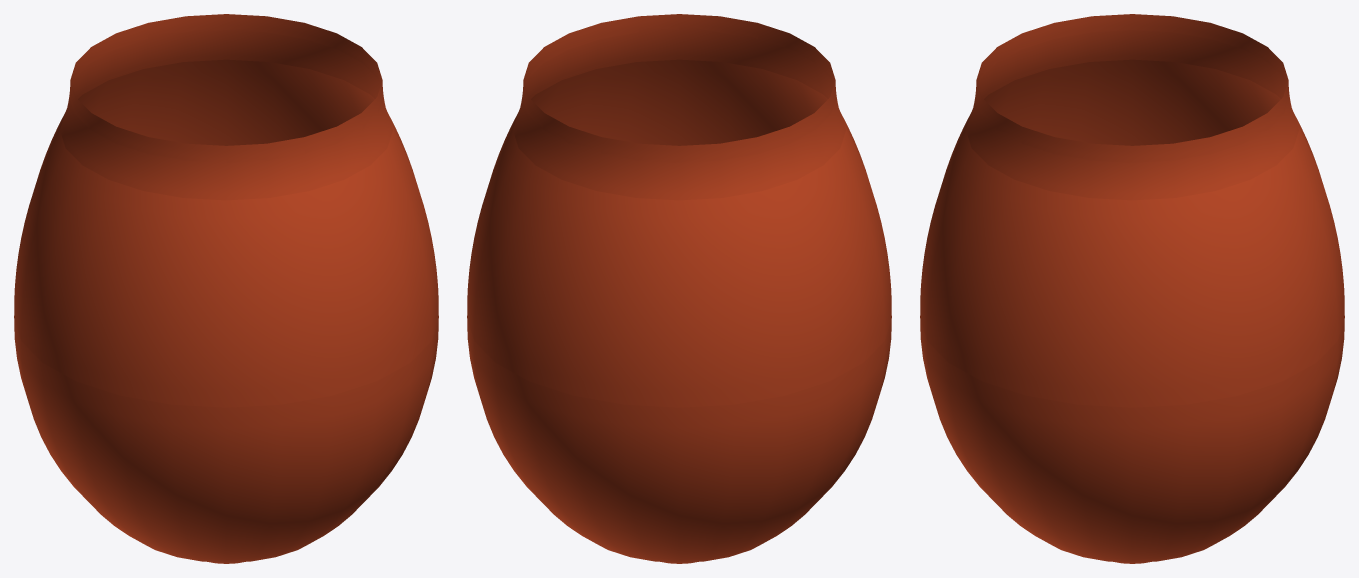
The model's file is beer_content2.dae.
3 renders of one model, left to right at view 1: azimuth 30°, elevation 25°; view 2: azimuth 150°, elevation 25°; view 3: azimuth 270°, elevation 25°, orthographic.
Parts seen in each view (by area): view 1: _13oz_Libbey_Belgian_Snifter; view 2: _13oz_Libbey_Belgian_Snifter; view 3: _13oz_Libbey_Belgian_Snifter.
Part boxes in pixels (x1,y1,x2,y2): _13oz_Libbey_Belgian_Snifter: (14, 14, 438, 563); _13oz_Libbey_Belgian_Snifter: (467, 14, 891, 563); _13oz_Libbey_Belgian_Snifter: (920, 14, 1344, 563).
Size of the model in its own units: 2.78 by 2.78 by 3.43.
